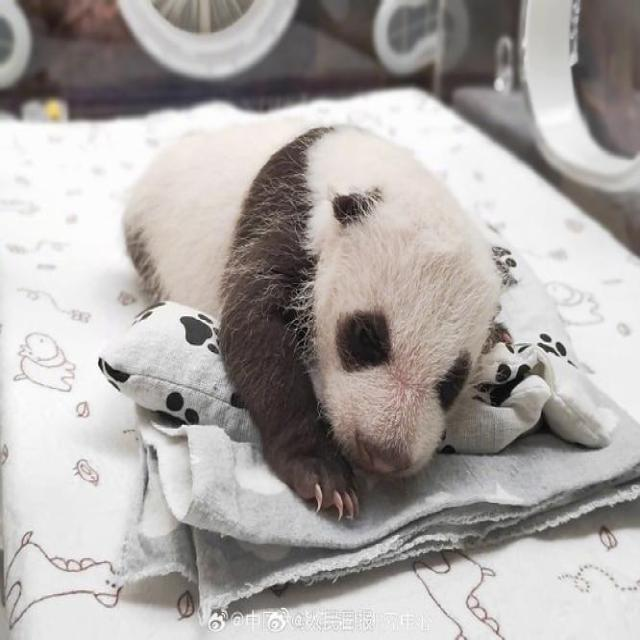panda: (128, 85, 580, 543)
